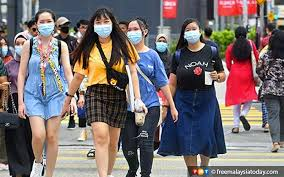with_mask: (126, 25, 150, 44), (35, 18, 56, 39), (93, 19, 113, 38), (183, 27, 201, 47), (154, 38, 168, 54)
